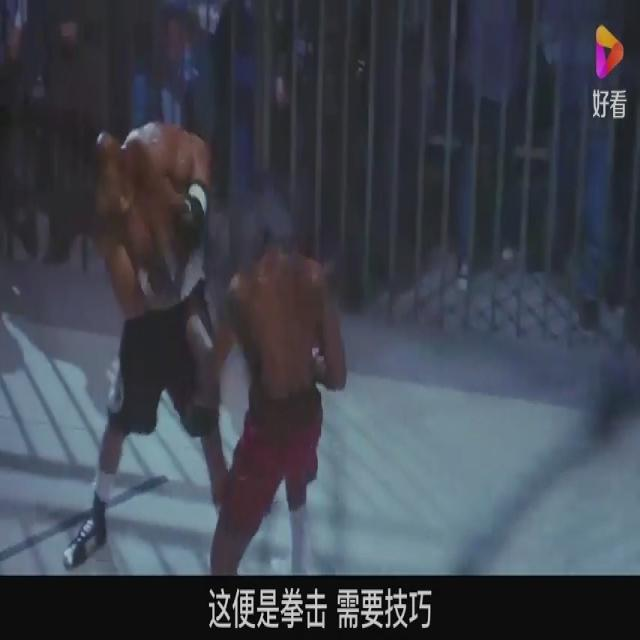fight: (63, 85, 354, 578)
